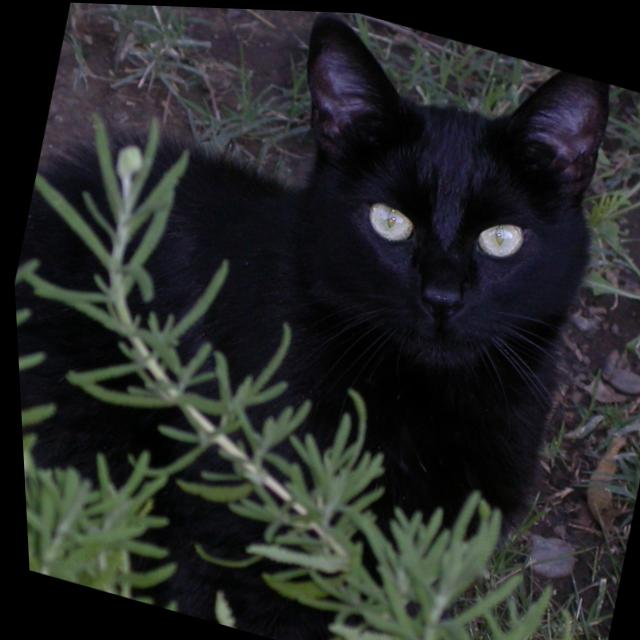animals: (263, 8, 614, 350)
